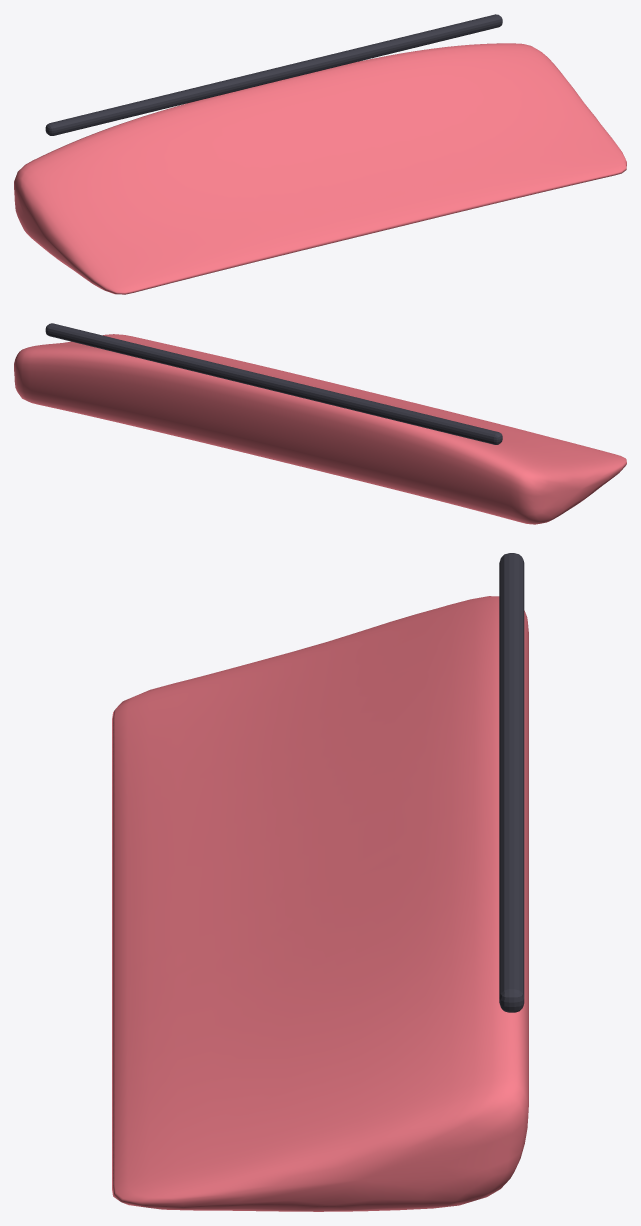
File: spoiler-ordek.glb
The picture shows the model from 3 angles, top to bottom: view 1: azimuth 30°, elevation 25°; view 2: azimuth 150°, elevation 25°; view 3: azimuth 270°, elevation 25°; orthographic projection. The views are drawn at different scales.
Parts seen in each view (by area): view 1: lip, lip_line; view 2: lip, lip_line; view 3: lip, lip_line.
Part boxes in pixels (box(x1,y1,x2,y2)): lip: box(14, 43, 626, 294); lip_line: box(45, 14, 502, 135); lip: box(14, 334, 626, 524); lip_line: box(45, 323, 502, 444); lip: box(112, 596, 528, 1211); lip_line: box(499, 553, 524, 1012).
Size of the model in its own units: 0.9943 by 0.168 by 0.3337.
